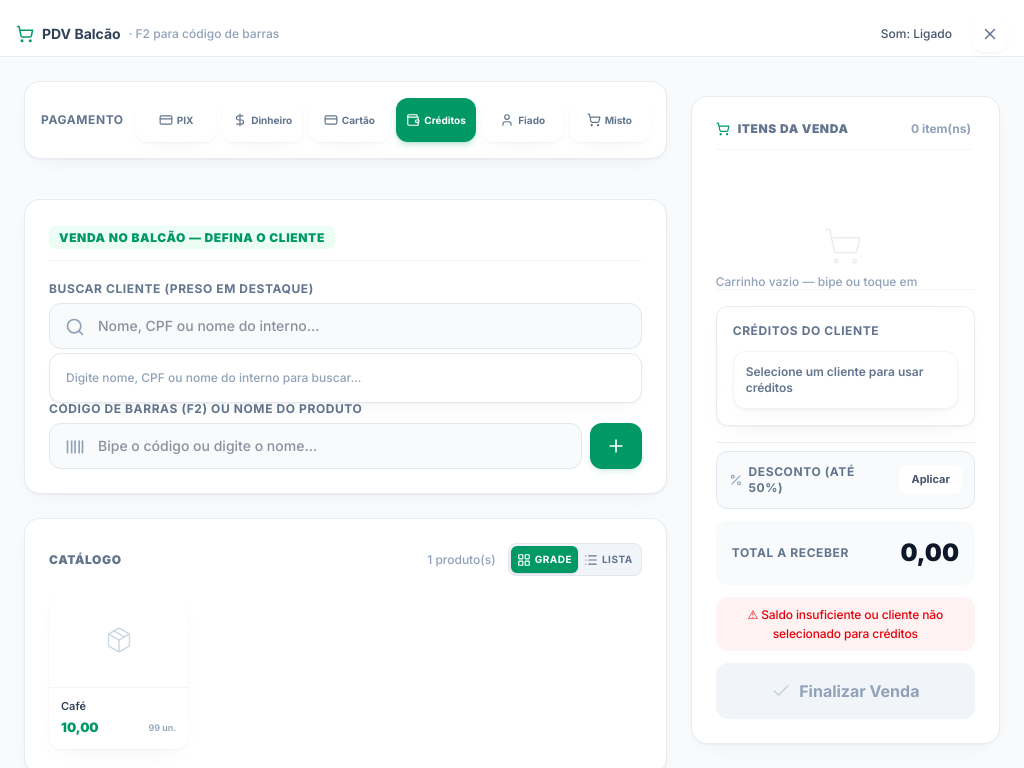
Test: PDV — a tela de pós-venda aparece depois da venda › a reimpressão da tela usa a via com prioridade (abre a janela)
Type "7891000100103" into the field with placeholder "Bipe o código ou digite o nome...".
click(315, 446); type("7891000100103")  # box x1=49 y1=423 x2=582 y2=469
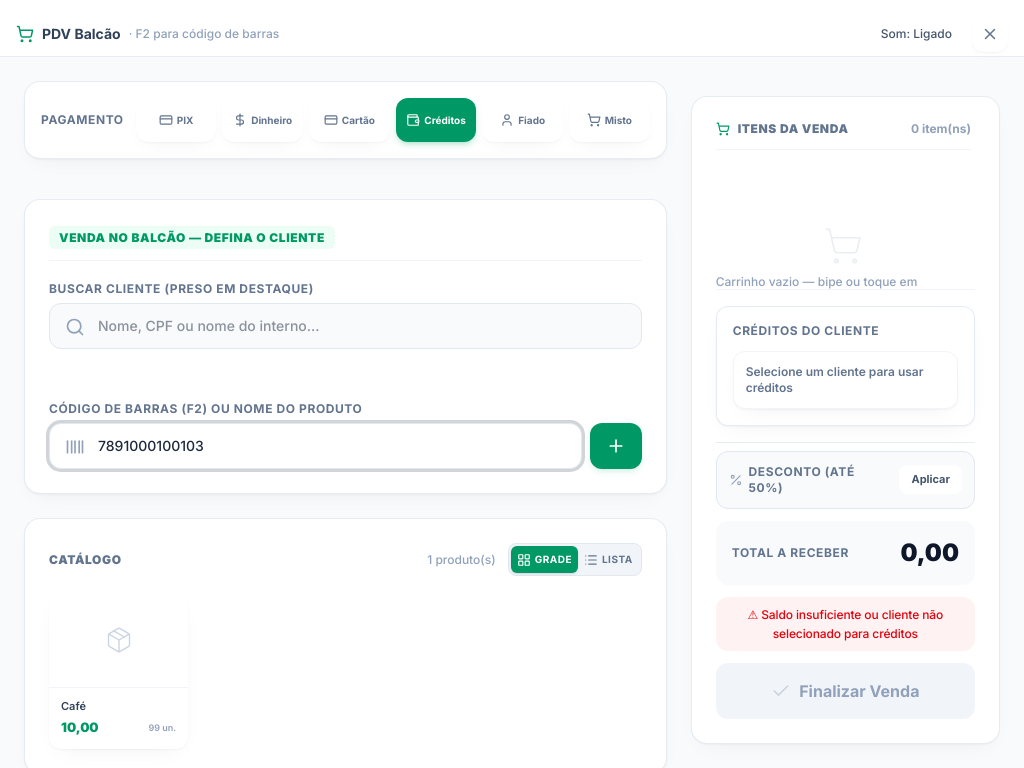
Click the button named "adicionar produto".
click(616, 446)  # box x1=590 y1=423 x2=642 y2=469
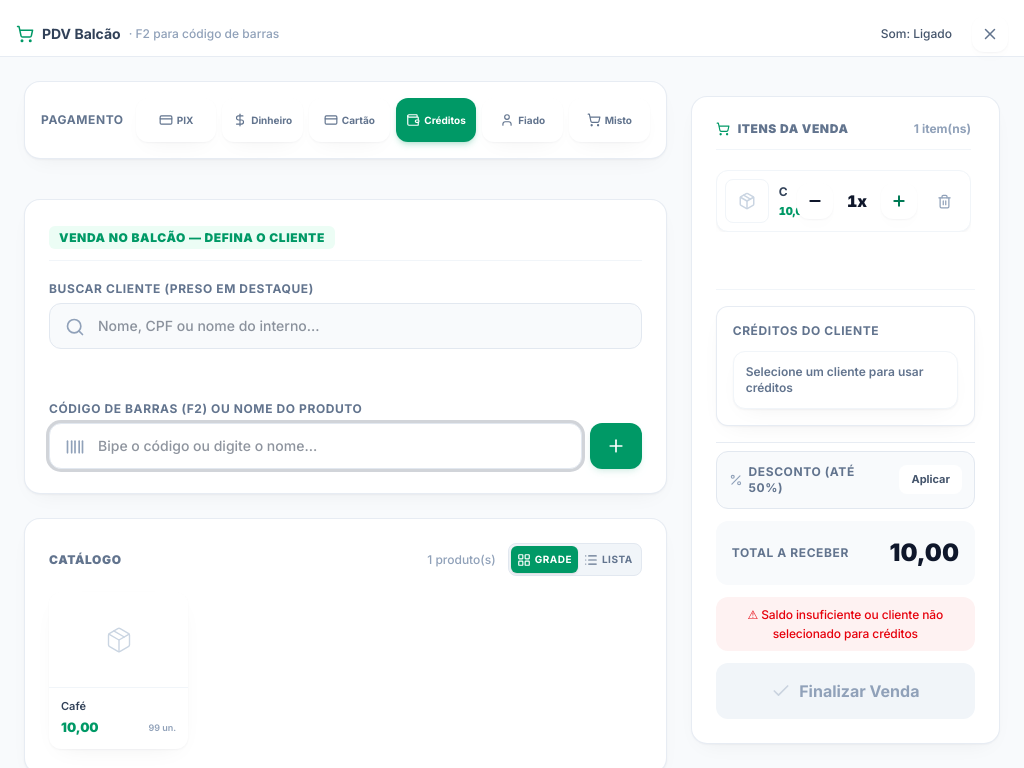
Click the button titled "Dinheiro".
click(263, 120)  # box x1=222 y1=98 x2=303 y2=142
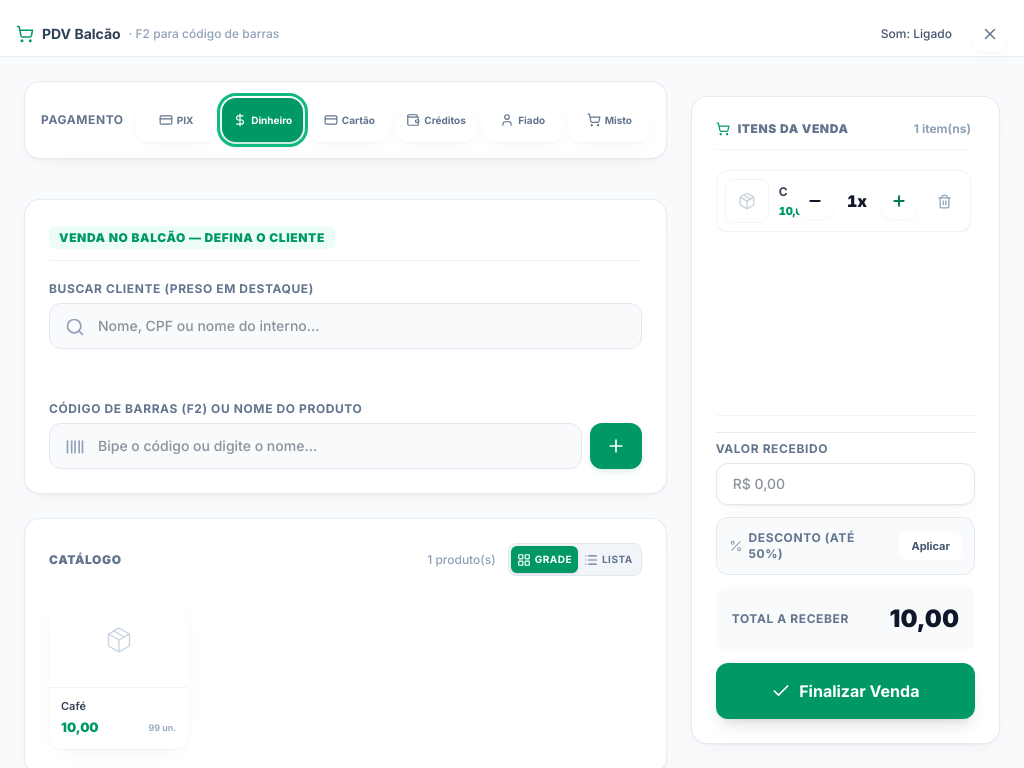
Type "14" into the field labelled "Valor Recebido".
click(845, 484); type("14")  # box x1=716 y1=463 x2=975 y2=505
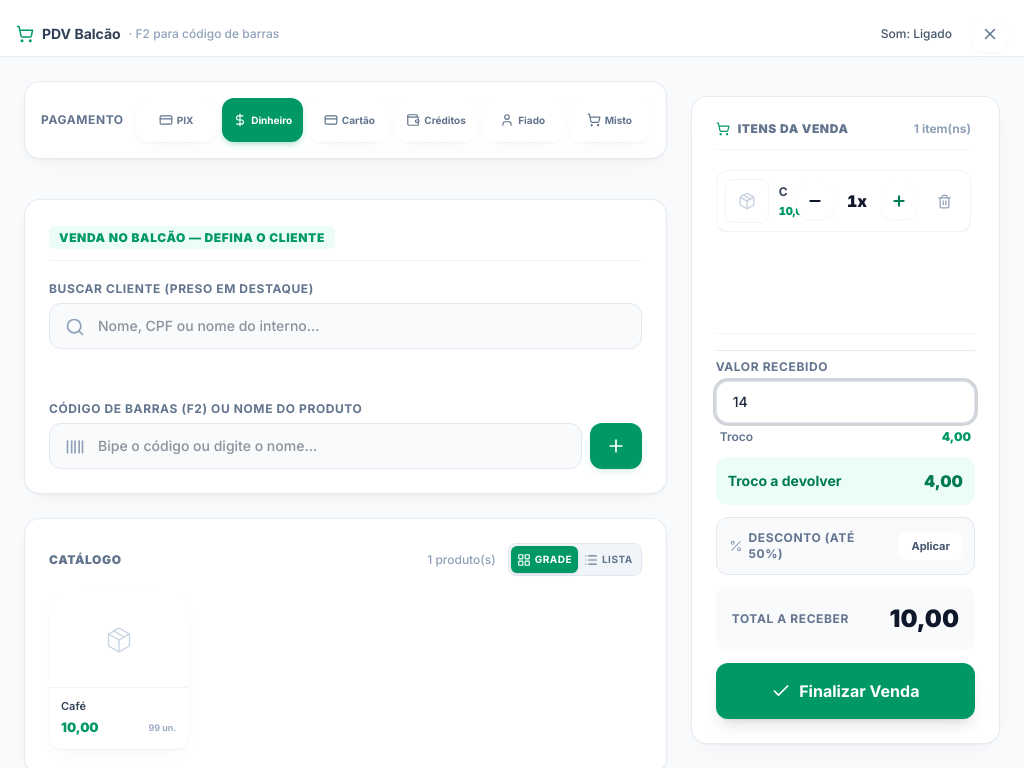
Expected: the button "Finalizar Venda" is enabled
Click the button "Finalizar Venda".
click(845, 691)  # box x1=716 y1=663 x2=975 y2=719
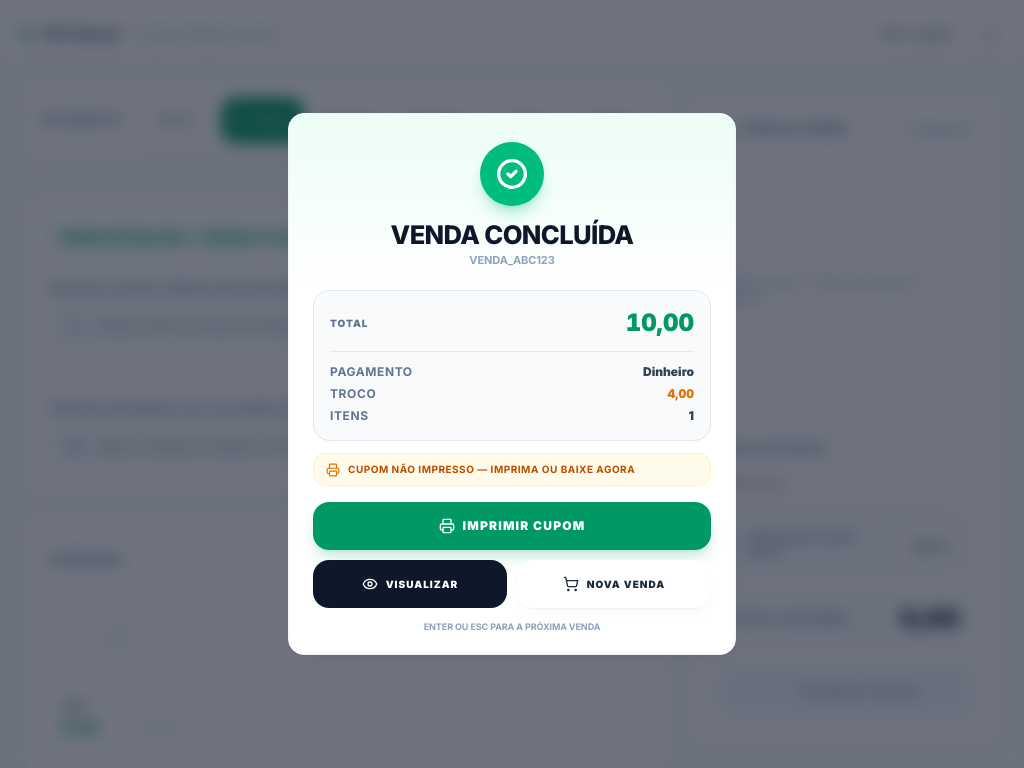
Expected: the dialog "Venda concluída" is shown, x1=288 y1=113 x2=736 y2=655
Click the button "Imprimir cupom".
click(512, 526)  # box x1=313 y1=502 x2=711 y2=550
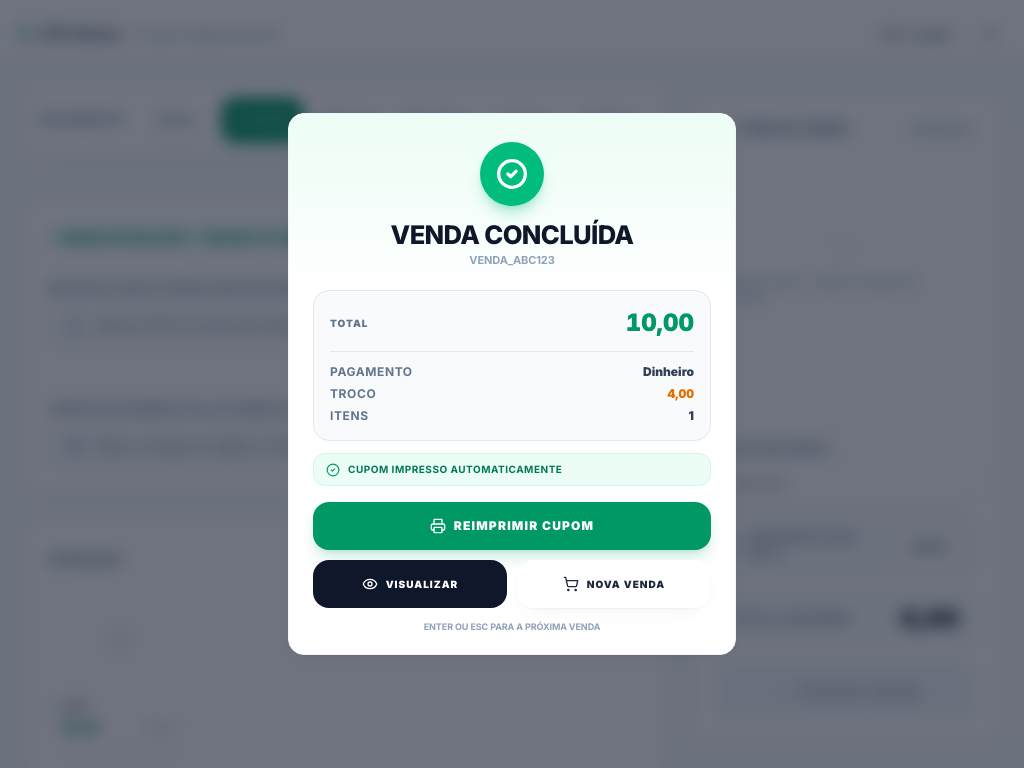
Expected: the text "Cupom impresso automaticamente" is shown, x1=348 y1=462 x2=562 y2=477
